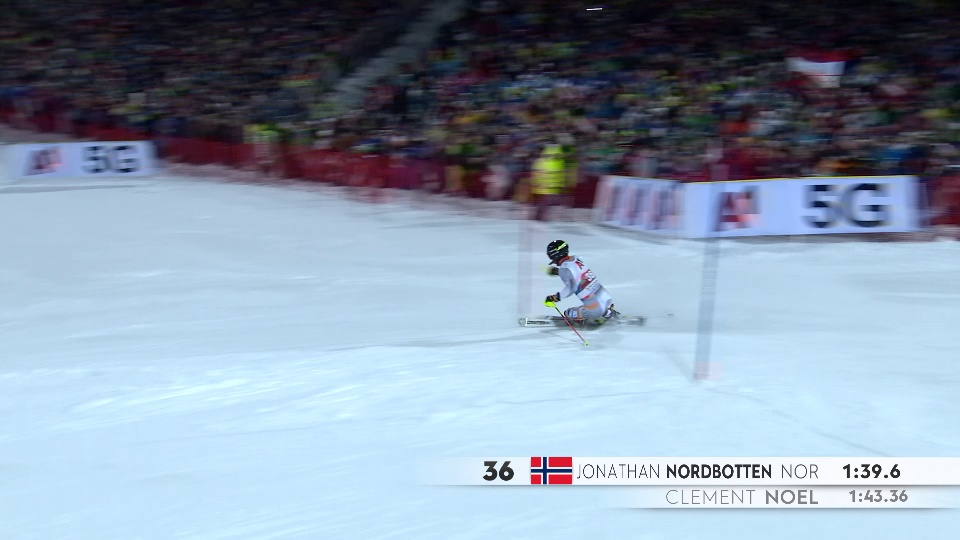5g: (805, 183, 886, 236), (80, 140, 138, 181)
a1: (712, 185, 771, 235)
